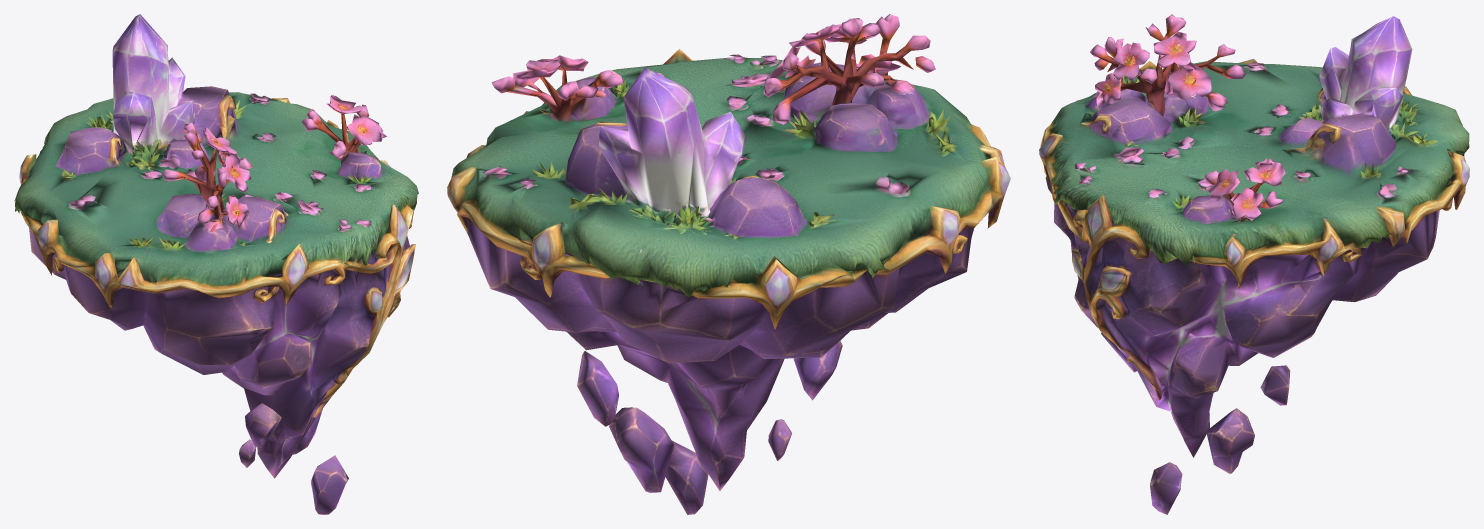
Rendered from island-a.high.glb.
3 views of the same model, side by side, from view 1: azimuth 30°, elevation 25°; view 2: azimuth 150°, elevation 25°; view 3: azimuth 270°, elevation 25° (orthographic). The views are drawn at different scales.
Visible parts, largest first — view 1: tripo_node_48a29c1c-f8f2-4ce2-84d5-78b475841909; view 2: tripo_node_48a29c1c-f8f2-4ce2-84d5-78b475841909; view 3: tripo_node_48a29c1c-f8f2-4ce2-84d5-78b475841909.
Part boxes in pixels (x1,y1,x2,y2): tripo_node_48a29c1c-f8f2-4ce2-84d5-78b475841909: (14, 14, 418, 514); tripo_node_48a29c1c-f8f2-4ce2-84d5-78b475841909: (447, 14, 1010, 514); tripo_node_48a29c1c-f8f2-4ce2-84d5-78b475841909: (1039, 14, 1469, 514).
Bounding box in the file's own units: 13.95 × 17.02 × 14.44.
Materials: 1 (1 with a texture image).
